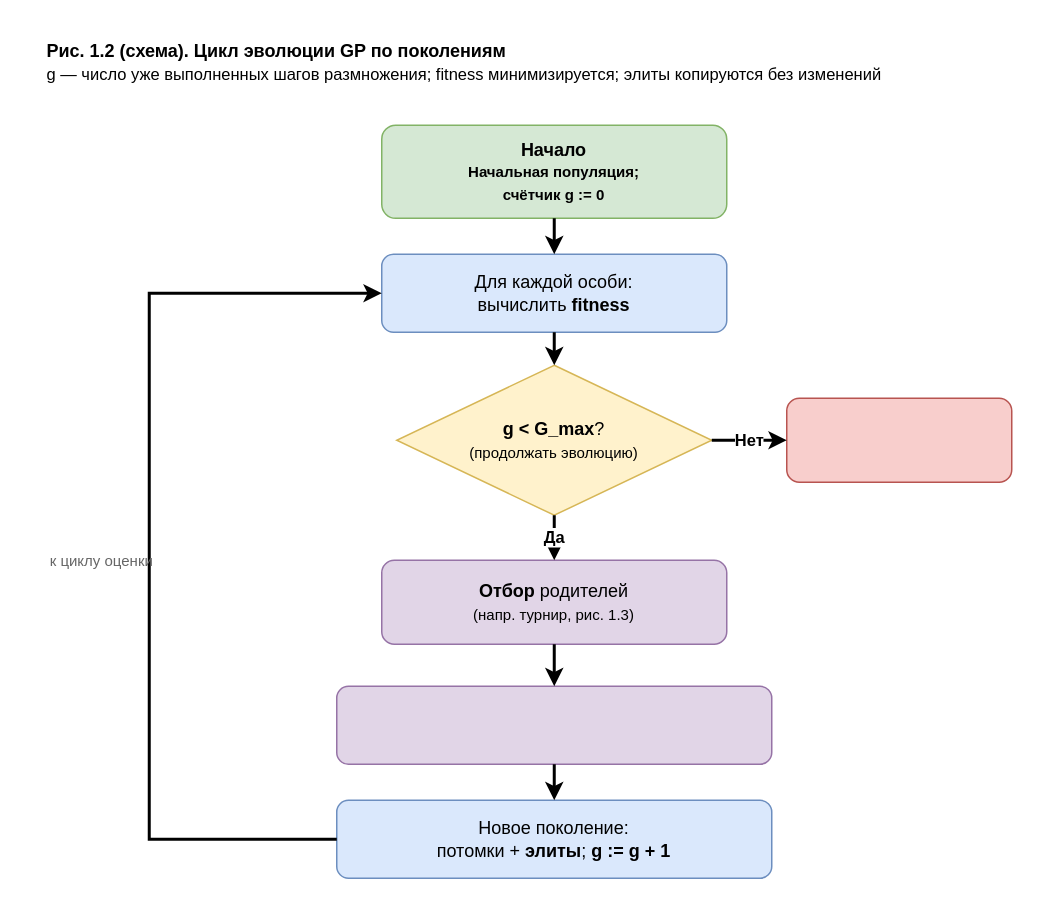
The diagram is 1038 pixels wide and 905 high, and some of its shapes have lost their labels. Each missing label, with the centre of its shape:
Конец: лучшая особь: the point at 898,439
Кроссовер поддеревьев, мутация с заданной вероятностью: the point at 553,724
